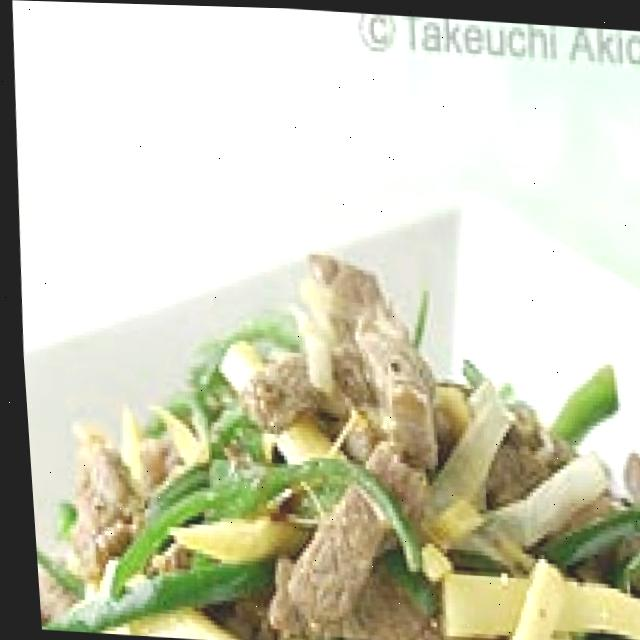牛肉菜式: (8, 147, 640, 640)
